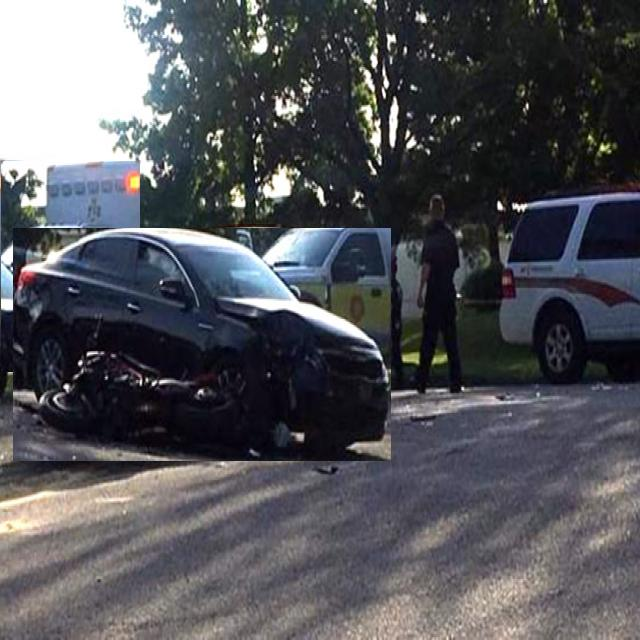accident: (13, 229, 390, 461), (150, 352, 358, 448)
car: (498, 186, 640, 387)
truck: (1, 161, 139, 372)
